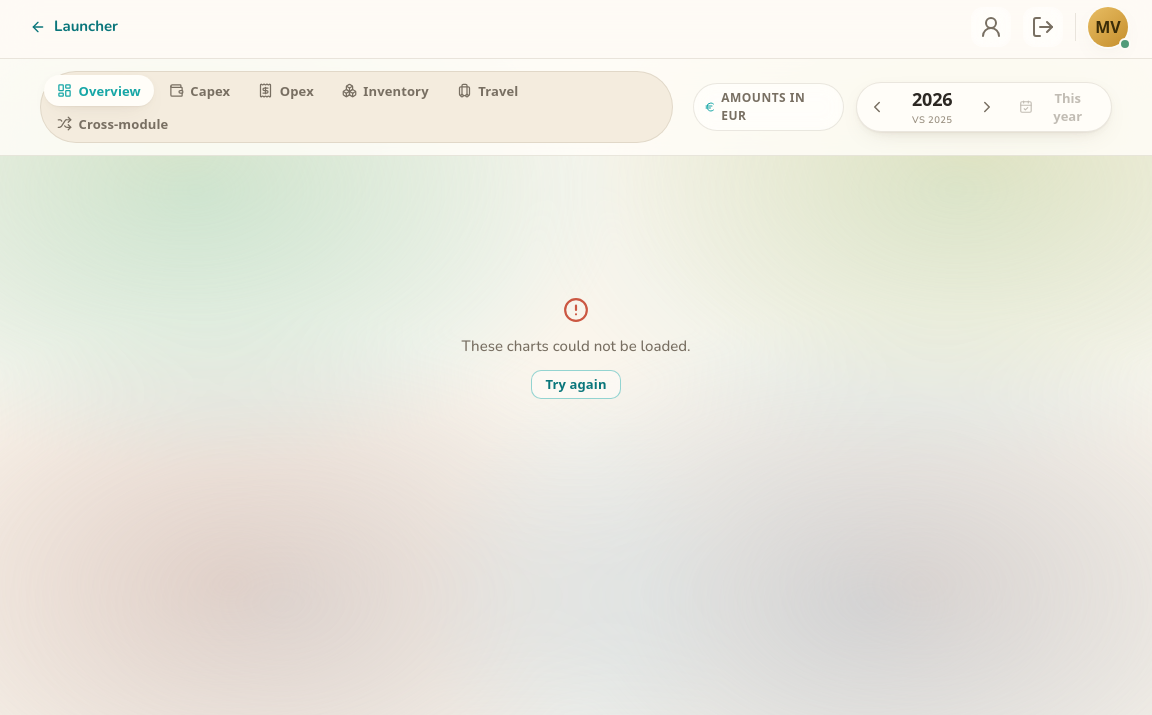
Test: Analytics shell › shows an error state and retries on demand
This screenshot has width=1152, height=715.
Check: the message shows "These charts could not be loaded.", box left=462, top=336, right=690, bottom=356
Click the button "Try again": (576, 384) left=531, top=370, right=621, bottom=399
(page scrolled)
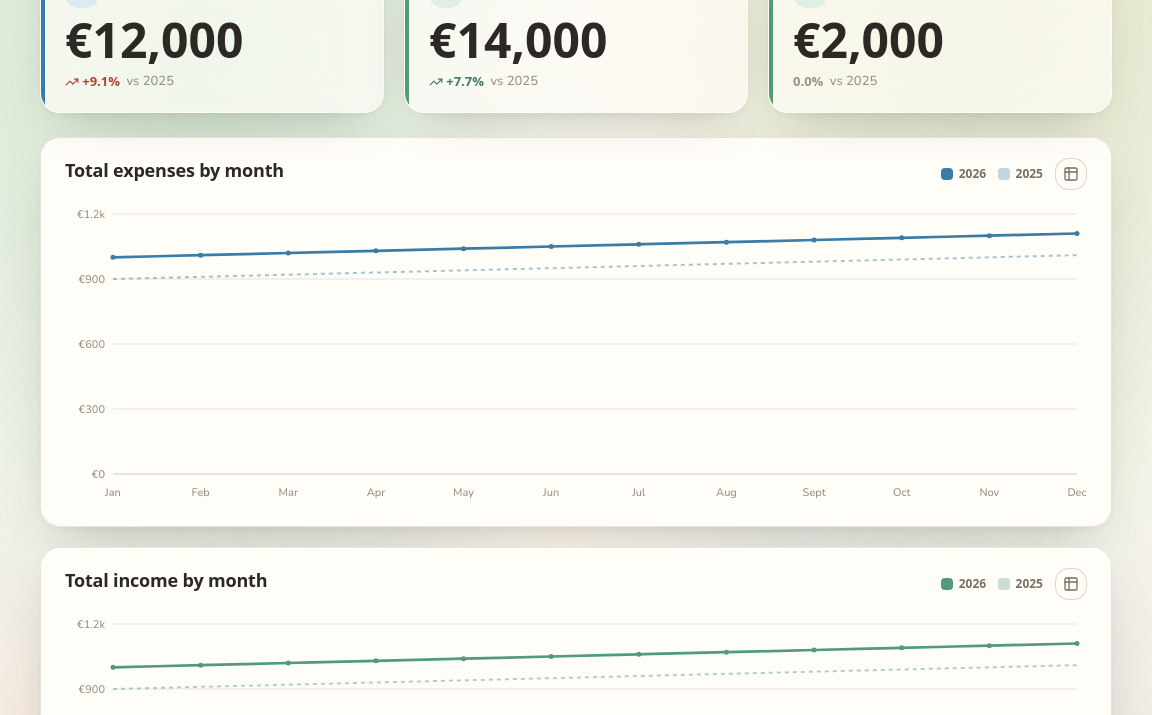
Check: the picture named "Total expenses by month" is shown, box left=65, top=206, right=1087, bottom=506
